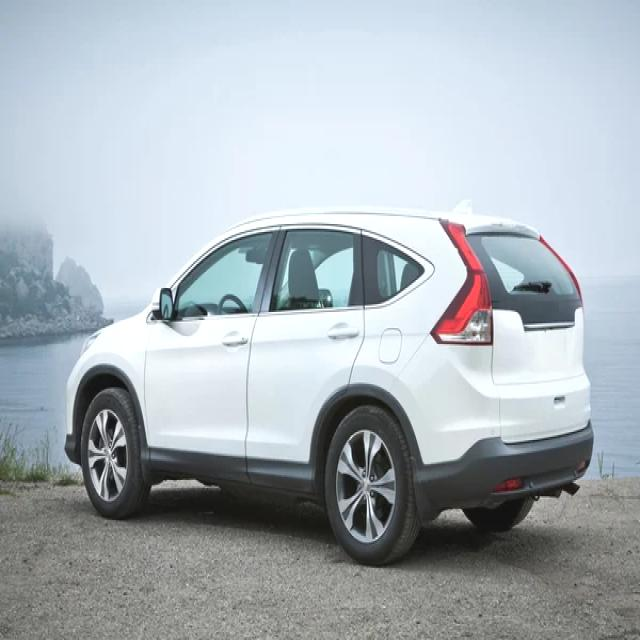SUV: (59, 203, 591, 566)
